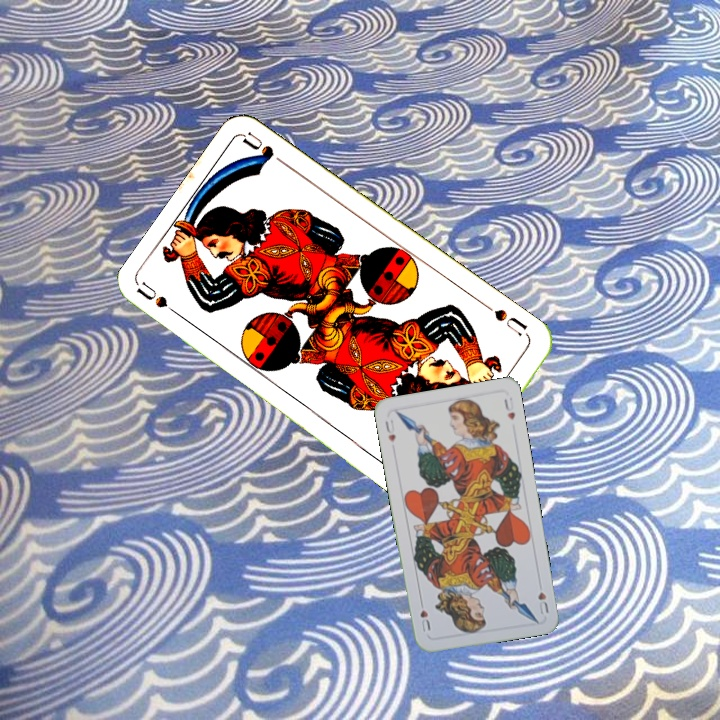HU: (381, 415, 398, 445), (534, 588, 551, 617)
SU: (134, 279, 188, 323), (480, 300, 530, 339)
